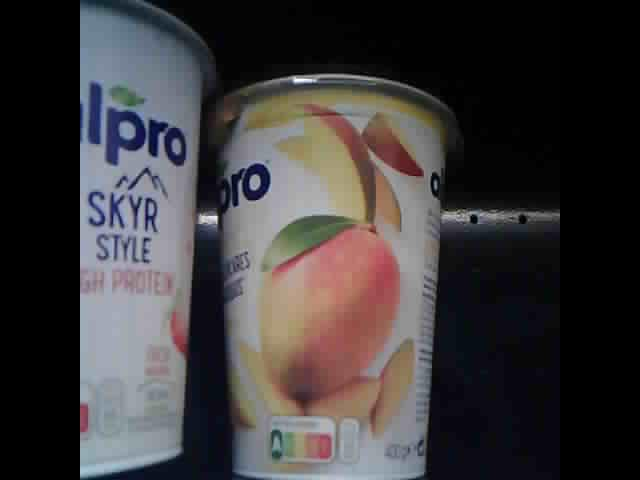alpro: (203, 71, 461, 480), (80, 2, 221, 477)
